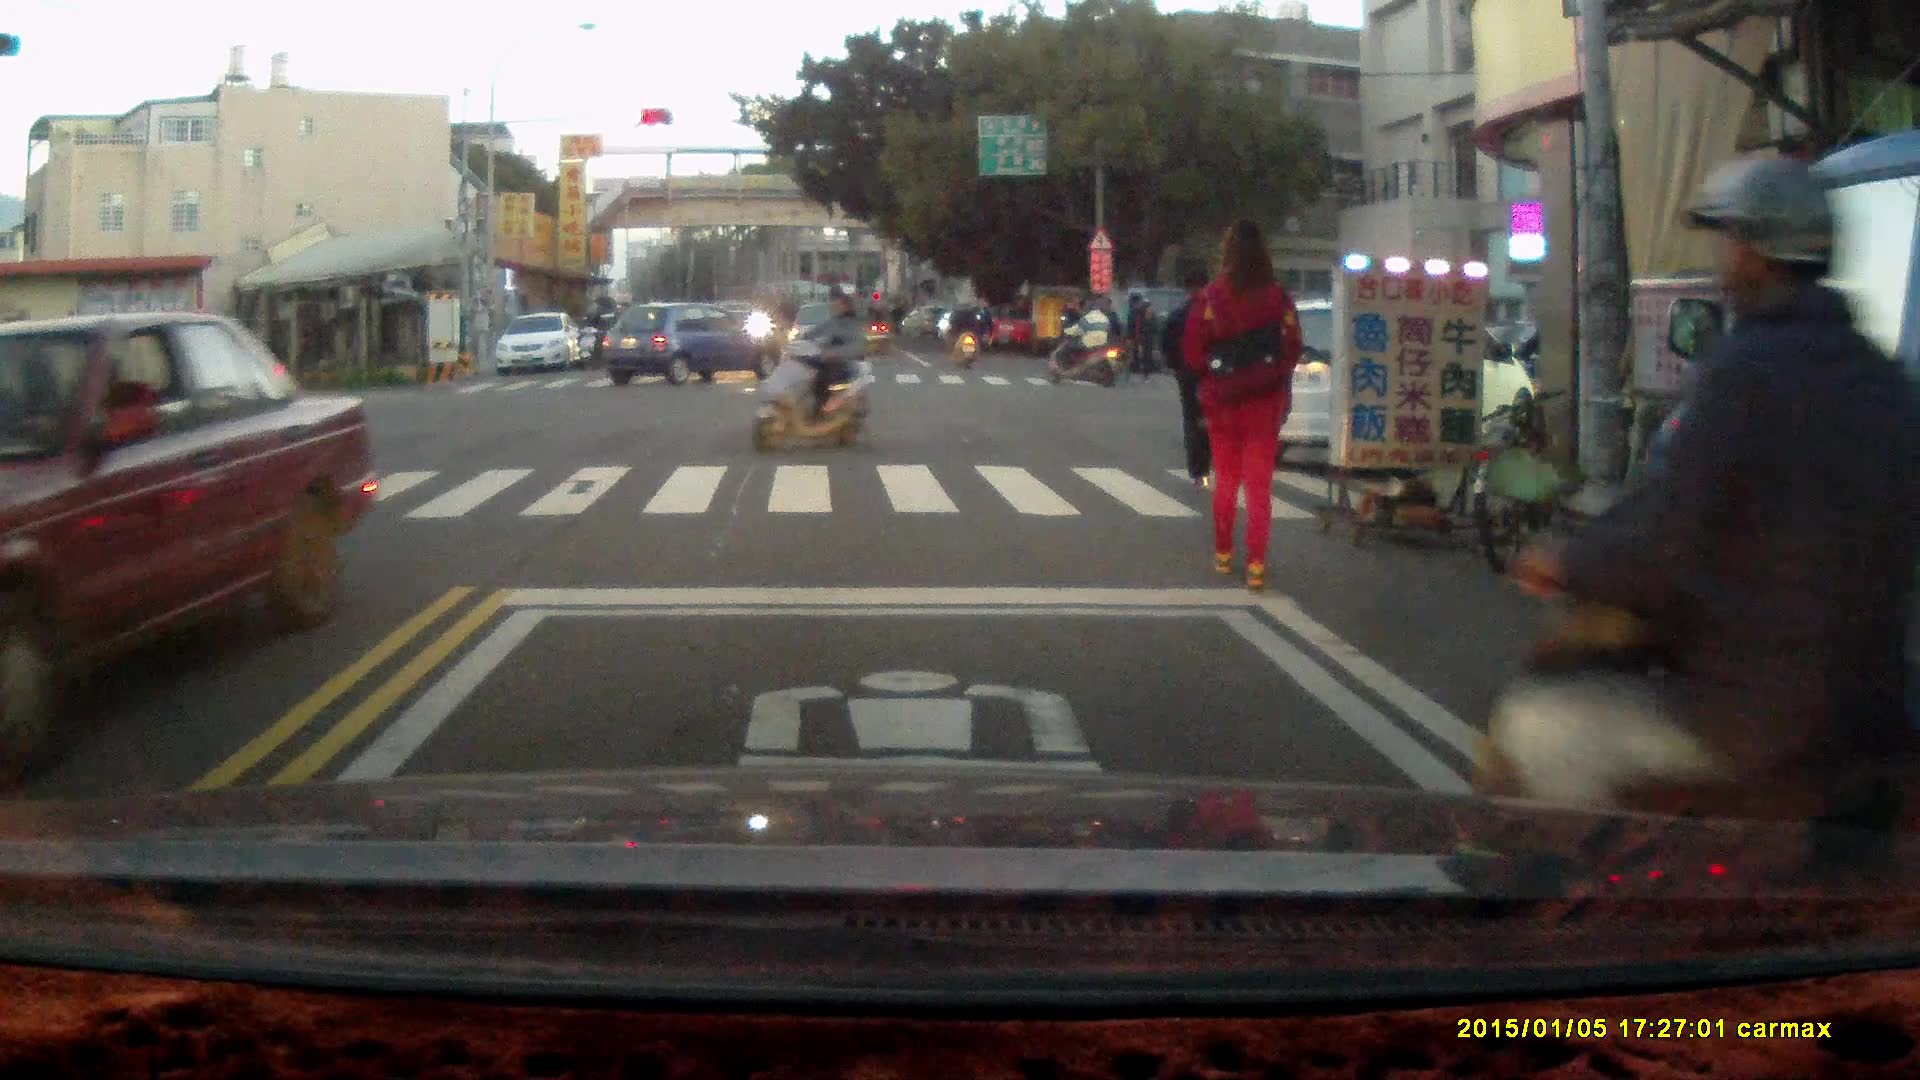pedestrian: (1178, 213, 1307, 592), (1157, 260, 1243, 488), (1129, 300, 1159, 383), (971, 293, 995, 368)
rider: (1475, 154, 1919, 882), (751, 283, 883, 455), (1043, 295, 1121, 387), (942, 292, 983, 371), (575, 302, 607, 370)
vehicle: (1598, 132, 1920, 877), (1, 312, 375, 739), (1233, 296, 1533, 459), (605, 304, 785, 389), (498, 313, 586, 377)
